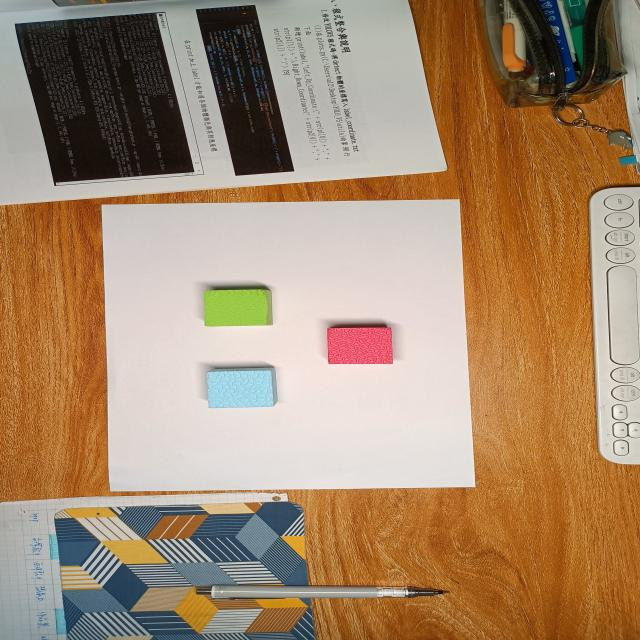BLUE: (207, 366, 281, 408)
GREEN: (202, 290, 273, 327)
RED: (326, 327, 394, 365)
